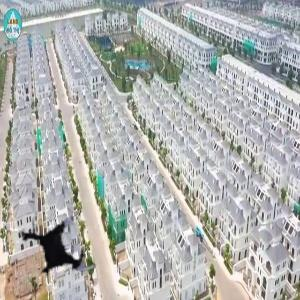drone: (16, 202, 105, 291)
